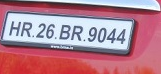0: (97, 27, 107, 43)
2: (36, 23, 46, 39)
4: (106, 28, 117, 44), (116, 29, 127, 45)
6: (46, 23, 55, 39)
9: (87, 26, 97, 42)
B: (60, 24, 71, 40)
H: (8, 20, 21, 37)
R: (71, 25, 83, 42), (21, 22, 32, 38)
